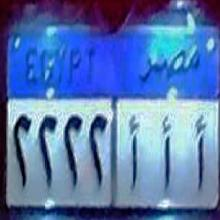2: (10, 111, 33, 194), (61, 111, 84, 192), (87, 110, 109, 191), (38, 112, 57, 188)
alif: (158, 112, 176, 190), (192, 113, 208, 196), (128, 111, 144, 192)
